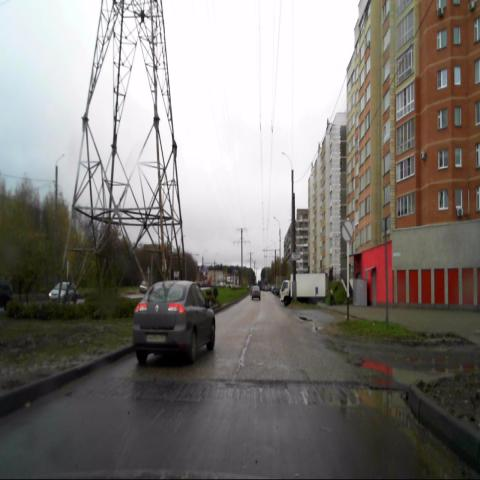3_31: (341, 220, 353, 243)
